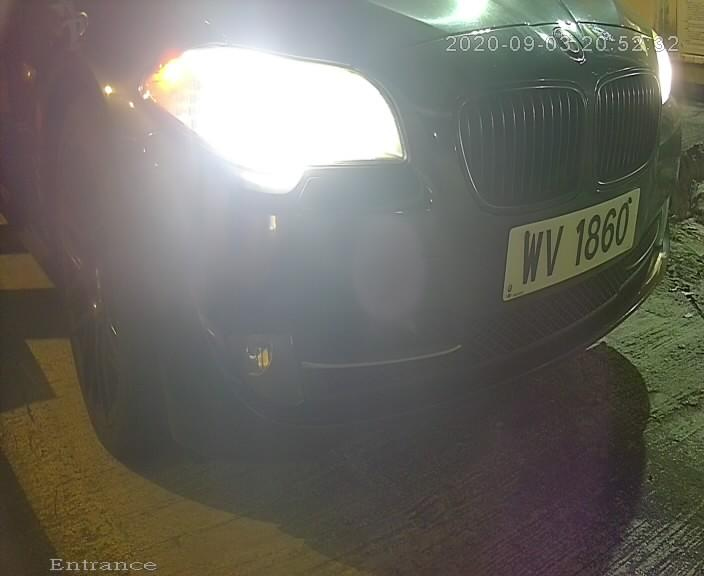License Plate: (500, 181, 639, 317)
